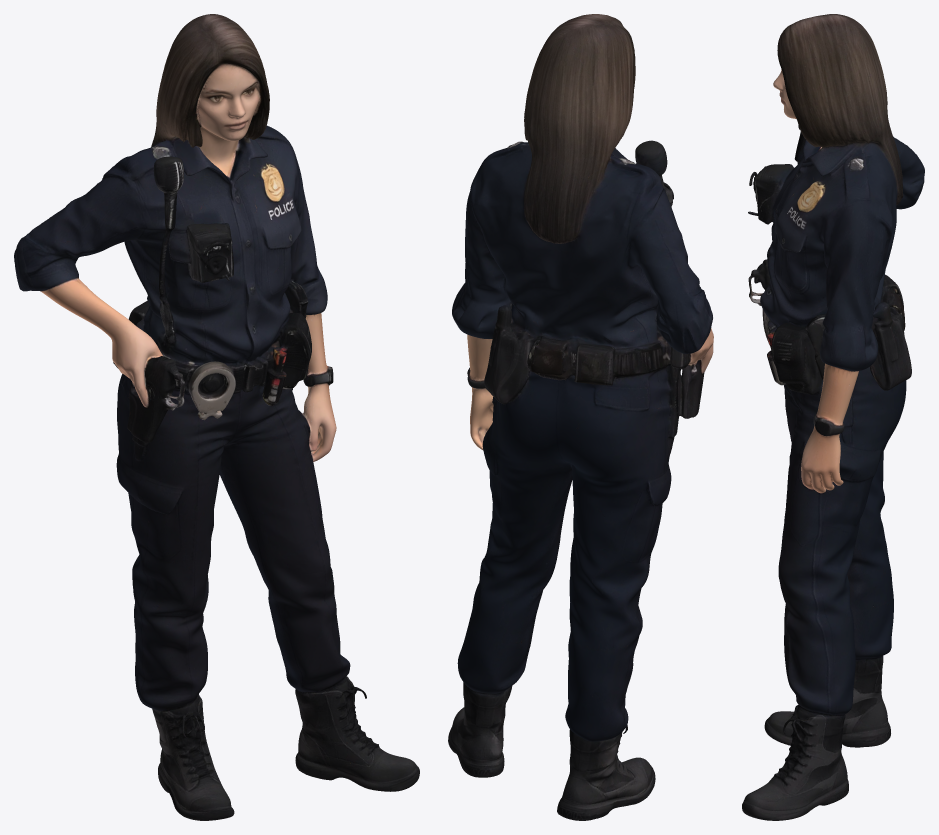
Rendered from police_officer_in_uniform.glb.
3 renders of one model, left to right at view 1: azimuth 30°, elevation 25°; view 2: azimuth 150°, elevation 25°; view 3: azimuth 270°, elevation 25°, orthographic. The views are drawn at different scales.
Visible parts, largest first — view 1: Object_5, Object_7, Object_6; view 2: Object_6, Object_5, Object_7; view 3: Object_6, Object_5, Object_7.
Boxes of the visible parts, x1=… form: Object_5: x1=46, y1=14, x2=419, y2=799; Object_7: x1=112, y1=28, x2=398, y2=820; Object_6: x1=14, y1=73, x2=357, y2=809; Object_6: x1=452, y1=30, x2=712, y2=820; Object_5: x1=448, y1=14, x2=713, y2=820; Object_7: x1=448, y1=14, x2=713, y2=802; Object_6: x1=786, y1=27, x2=924, y2=811; Object_5: x1=742, y1=14, x2=895, y2=820; Object_7: x1=759, y1=16, x2=829, y2=816.
Size of the model in its own units: 0.8275 by 1.9 by 0.4302.
Materials: 1 (1 with a texture image).
